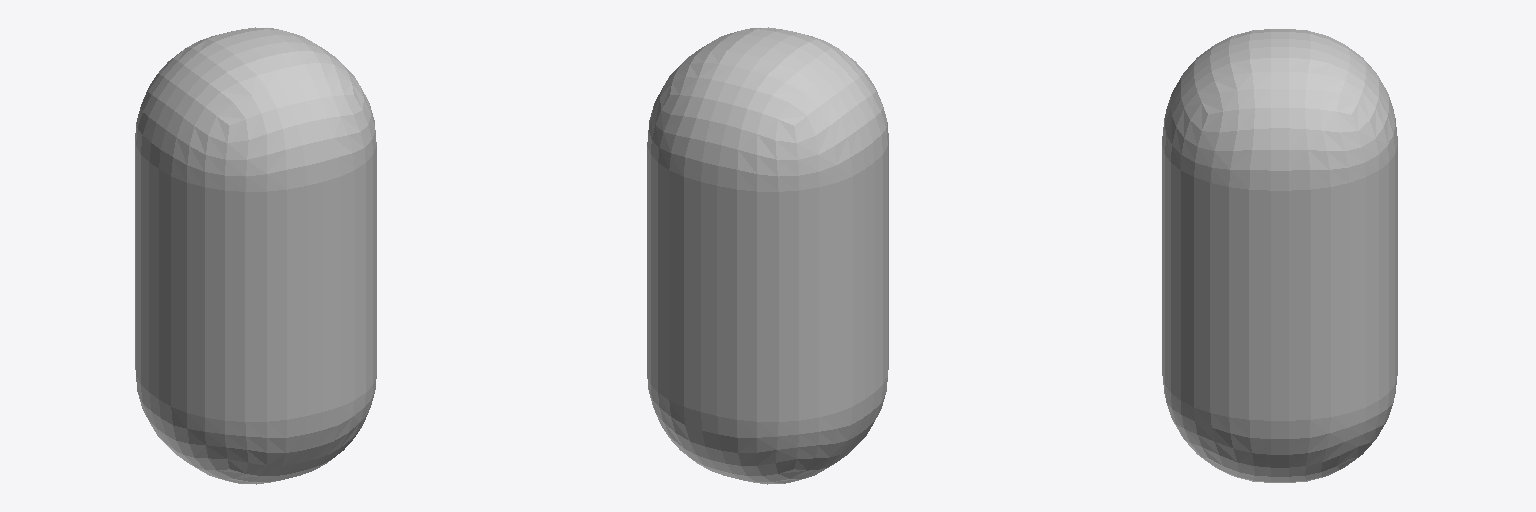
Rendered from PlayerTestSize.obj.
The picture shows the model from 3 angles: view 1: azimuth 30°, elevation 25°; view 2: azimuth 150°, elevation 25°; view 3: azimuth 270°, elevation 25°; orthographic projection.
Visible parts, largest first — view 1: PlayerTestSize; view 2: PlayerTestSize; view 3: PlayerTestSize.
Part boxes in pixels (x1,y1,x2,y2): PlayerTestSize: (135,27,376,484); PlayerTestSize: (647,27,888,484); PlayerTestSize: (1162,29,1397,482).
Bounding box in the file's own units: 1 × 2 × 1.